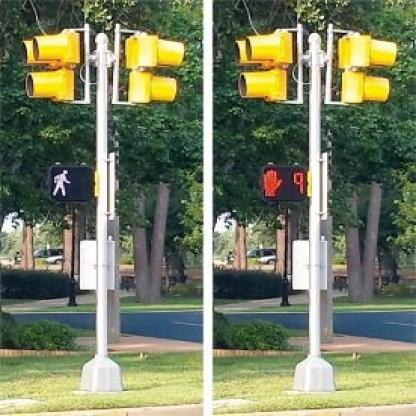Don-t Walk: (264, 166, 290, 202)
Walk: (50, 167, 94, 201)
